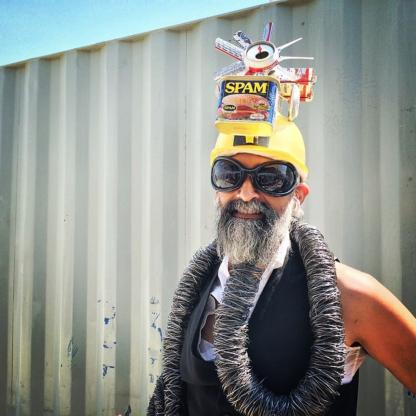Helmet: (205, 19, 308, 181)
